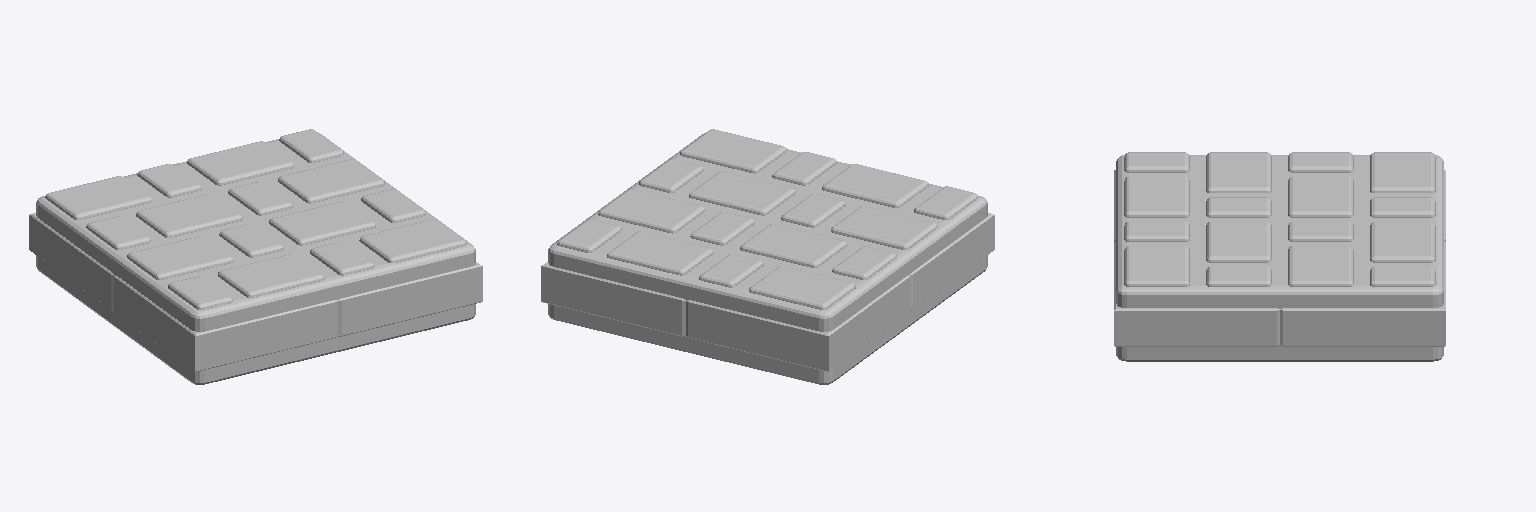
Rendered from tileBrickA_medium.obj.
3 views of the same model, side by side, from view 1: azimuth 30°, elevation 25°; view 2: azimuth 150°, elevation 25°; view 3: azimuth 270°, elevation 25° (orthographic).
Parts seen in each view (by area): view 1: tileBrickA_medium_Cube.2537; view 2: tileBrickA_medium_Cube.2537; view 3: tileBrickA_medium_Cube.2537.
Part boxes in pixels (left/top/right/bottom): tileBrickA_medium_Cube.2537: left=29, top=129, right=482, bottom=384; tileBrickA_medium_Cube.2537: left=541, top=129, right=994, bottom=384; tileBrickA_medium_Cube.2537: left=1114, top=152, right=1445, bottom=361.
Size of the model in its own units: 4.05 by 1.06 by 4.05.